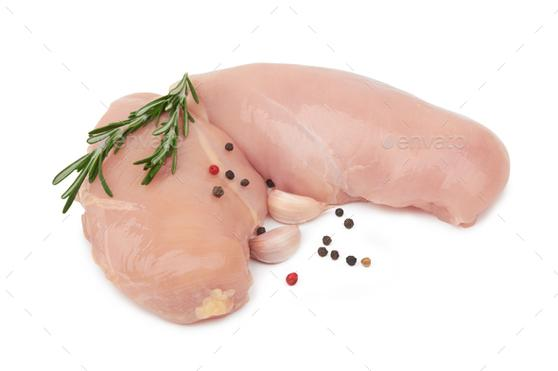chicken_fillet: (177, 59, 511, 229), (74, 86, 281, 325)
